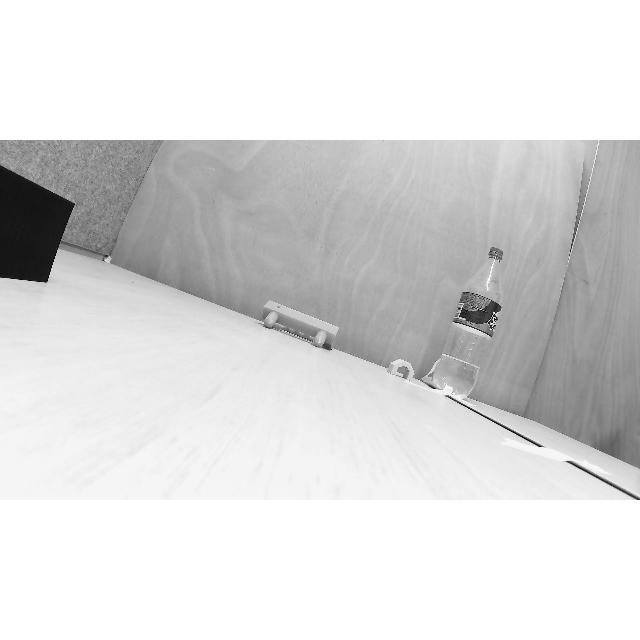targets: (434, 242, 506, 406), (1, 165, 73, 283), (264, 302, 342, 348), (391, 358, 413, 382)
